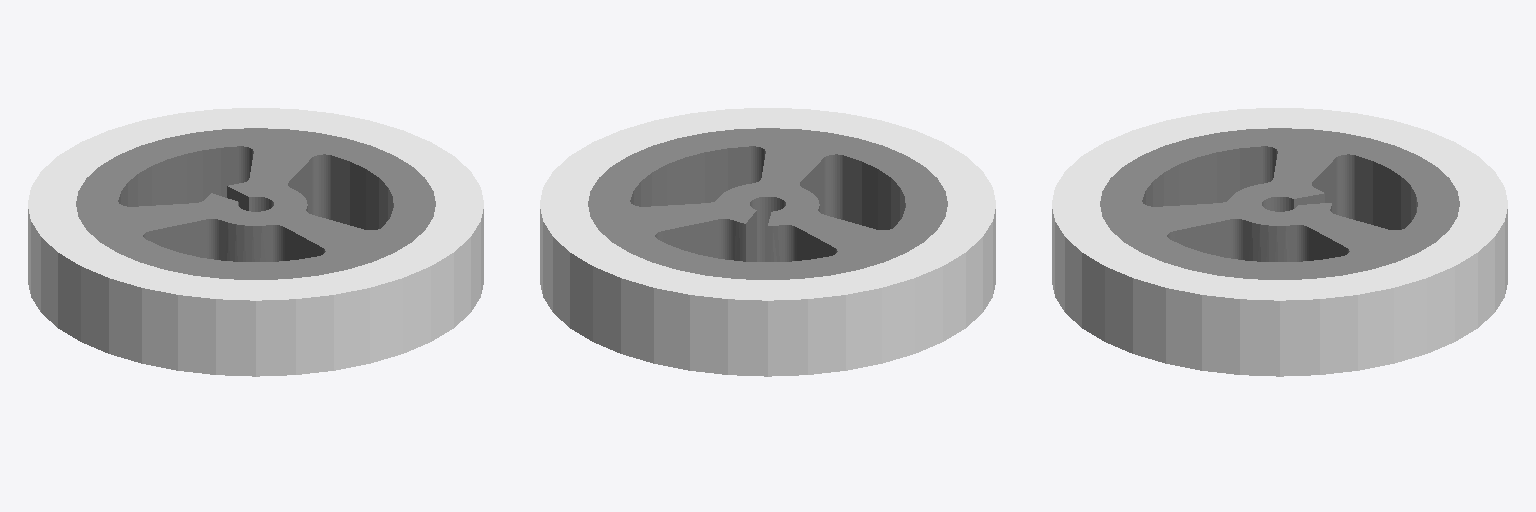
Rendered from wheel_left.obj.
The picture shows the model from 3 angles: view 1: azimuth 30°, elevation 25°; view 2: azimuth 150°, elevation 25°; view 3: azimuth 270°, elevation 25°; orthographic projection.
Parts seen in each view (by area): view 1: simboid_wheel_new_origin/SOLID; view 2: simboid_wheel_new_origin/SOLID; view 3: simboid_wheel_new_origin/SOLID.
Part boxes in pixels (bbox=[...]): simboid_wheel_new_origin/SOLID: bbox=[28, 108, 483, 376]; simboid_wheel_new_origin/SOLID: bbox=[540, 108, 995, 376]; simboid_wheel_new_origin/SOLID: bbox=[1052, 108, 1507, 376].
Size of the model in its own units: 0.0345 by 0.0086 by 0.0345.